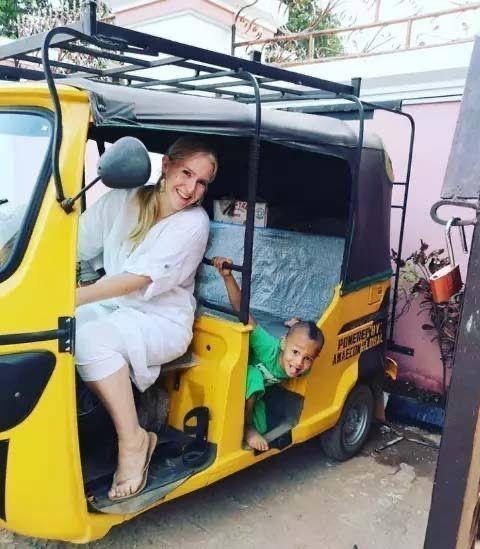keke: (0, 6, 406, 546)
